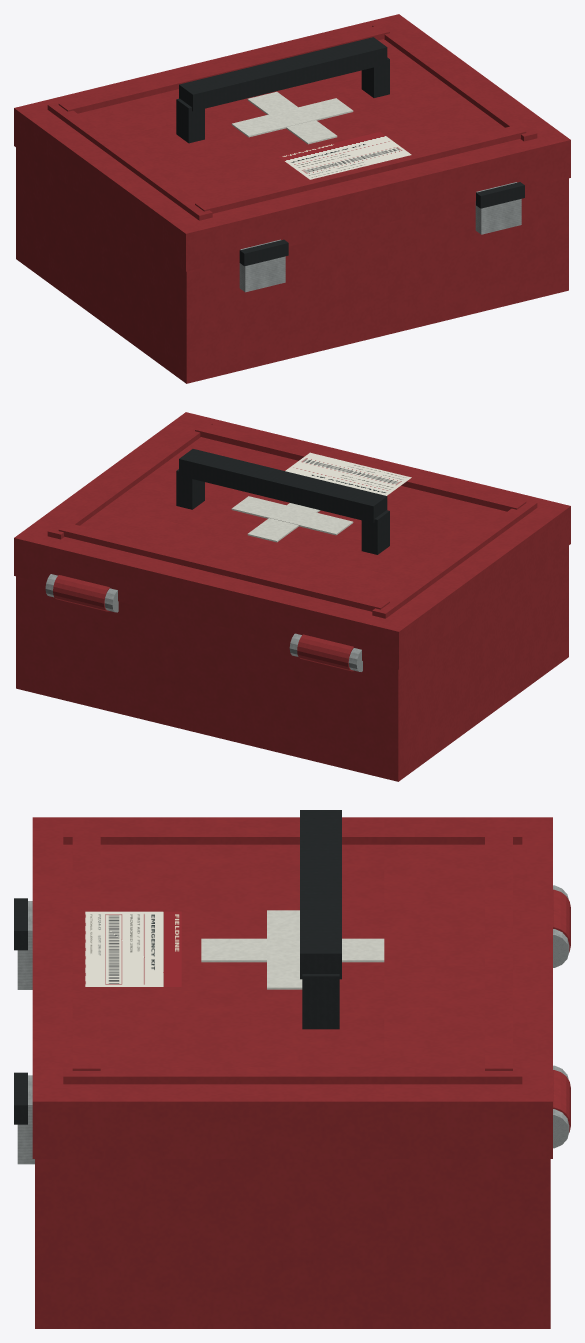
The model's file is 07_Emergency_Medkit.glb.
3 views of the same model, one above another, from view 1: azimuth 30°, elevation 25°; view 2: azimuth 150°, elevation 25°; view 3: azimuth 270°, elevation 25° (orthographic). The views are drawn at different scales.
Visible parts, largest first — view 1: MEDKIT_03_LID_RotateAboutRearHinge, MEDKIT_01_OpenTop_CaseBase_AndInnerWell, MEDKIT_04_FrontRelease_Clips_Fixed; view 2: MEDKIT_03_LID_RotateAboutRearHinge, MEDKIT_01_OpenTop_CaseBase_AndInnerWell, MEDKIT_02_Fixed_Hinge_Brackets; view 3: MEDKIT_03_LID_RotateAboutRearHinge, MEDKIT_01_OpenTop_CaseBase_AndInnerWell, MEDKIT_04_FrontRelease_Clips_Fixed, MEDKIT_02_Fixed_Hinge_Brackets.
Part boxes in pixels (x1=…): MEDKIT_03_LID_RotateAboutRearHinge: x1=14, y1=14, x2=570, y2=271; MEDKIT_01_OpenTop_CaseBase_AndInnerWell: x1=16, y1=147, x2=568, y2=383; MEDKIT_04_FrontRelease_Clips_Fixed: x1=239, y1=182, x2=524, y2=292; MEDKIT_03_LID_RotateAboutRearHinge: x1=14, y1=412, x2=570, y2=671; MEDKIT_01_OpenTop_CaseBase_AndInnerWell: x1=16, y1=545, x2=568, y2=781; MEDKIT_02_Fixed_Hinge_Brackets: x1=45, y1=574, x2=362, y2=671; MEDKIT_03_LID_RotateAboutRearHinge: x1=32, y1=810, x2=570, y2=1158; MEDKIT_01_OpenTop_CaseBase_AndInnerWell: x1=35, y1=1159, x2=550, y2=1328; MEDKIT_04_FrontRelease_Clips_Fixed: x1=14, y1=898, x2=34, y2=1164; MEDKIT_02_Fixed_Hinge_Brackets: x1=553, y1=885, x2=569, y2=1148.
Bounding box in the file's own units: 0.287 × 0.144 × 0.2377.
Materials: 6 (6 with a texture image).
